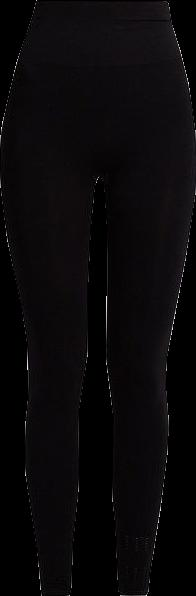Hemline: (114, 586, 149, 595), (40, 587, 73, 595)
Pantleg: (1, 0, 97, 595), (98, 0, 194, 594)
Waistline: (32, 12, 172, 24), (35, 0, 169, 7)
